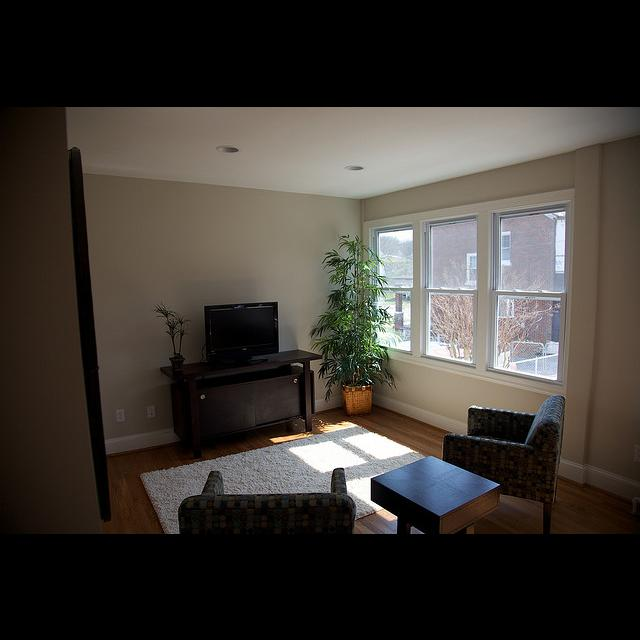Flat-Panel-TV: (204, 301, 279, 361)
